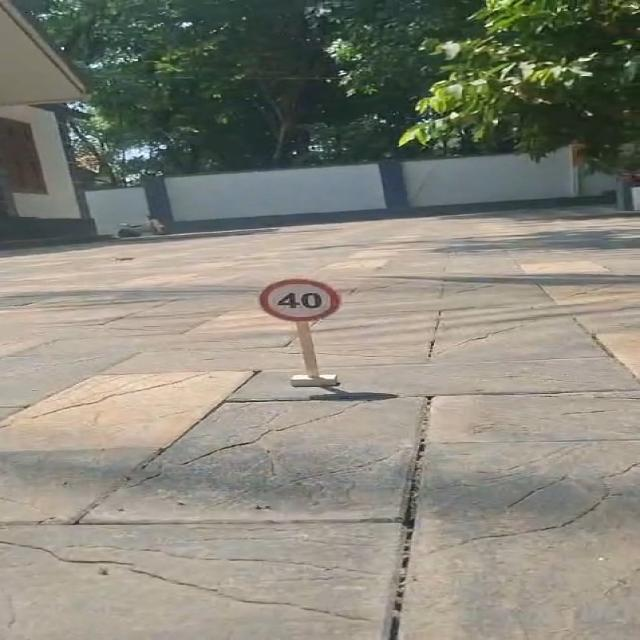Speed40: (256, 276, 344, 323)
